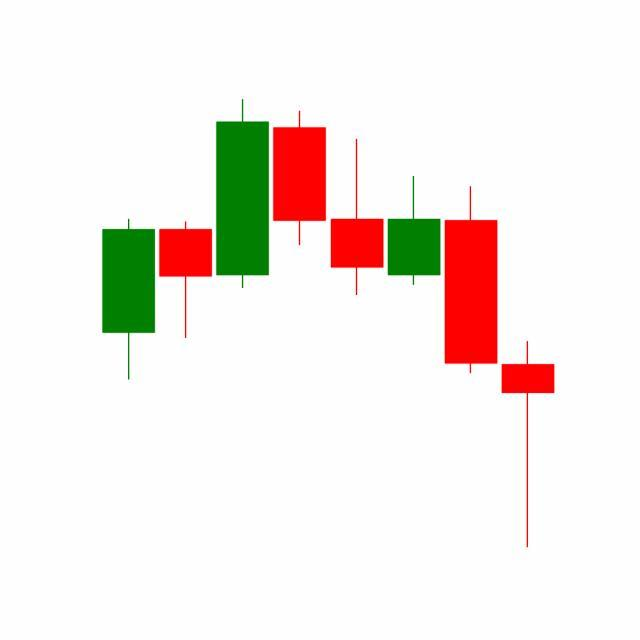Hikkake Pattern: (214, 100, 501, 379)
